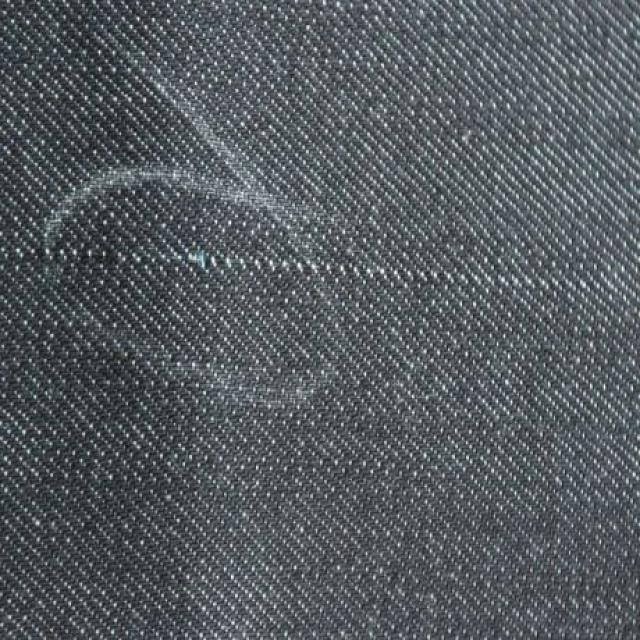stains: (66, 208, 640, 338)
